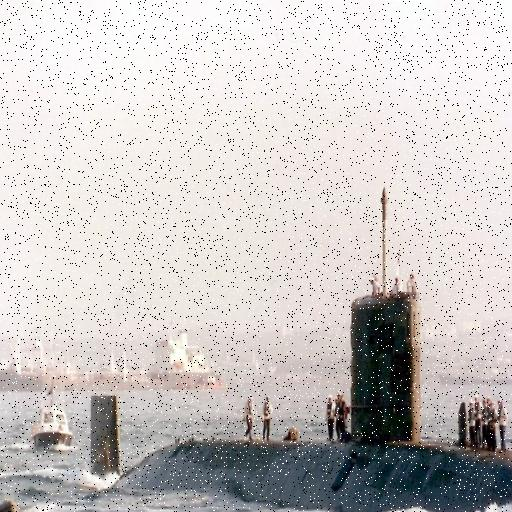submarine: (88, 290, 512, 512)
